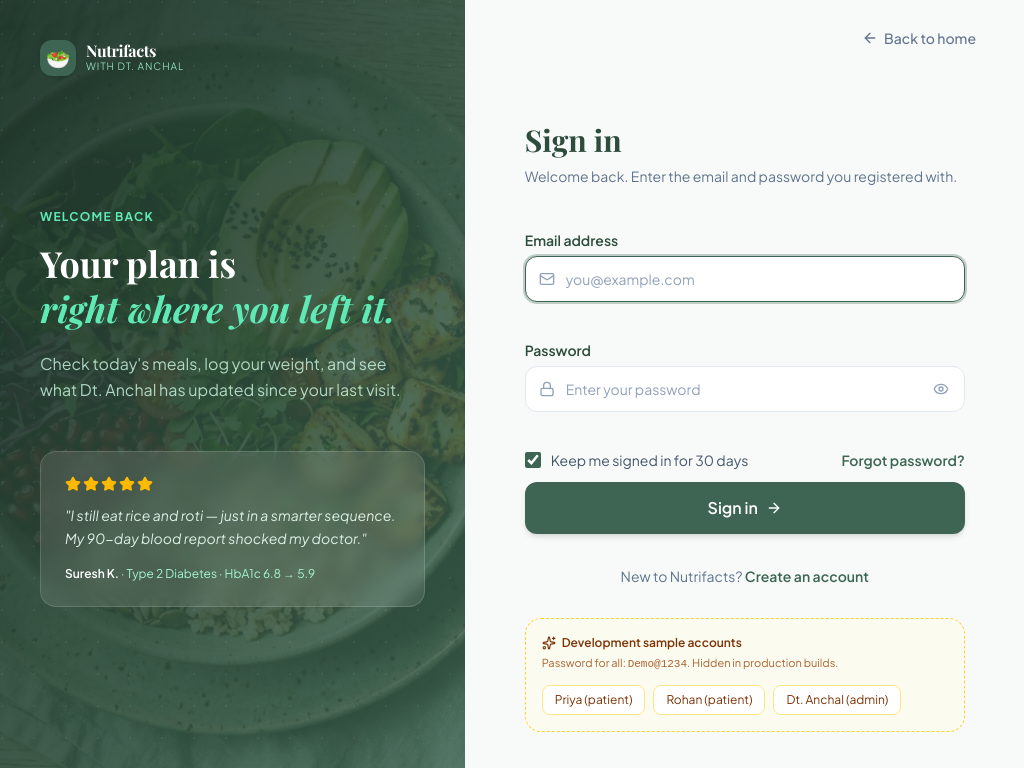
Scenario: sign-in page › shows the server error, clears the password and keeps the email
The image size is (1024, 768).
In the field labelled "Email address": (745, 279) top-left (525, 256), bottom-right (965, 302), type "priya.sharma@example.com"
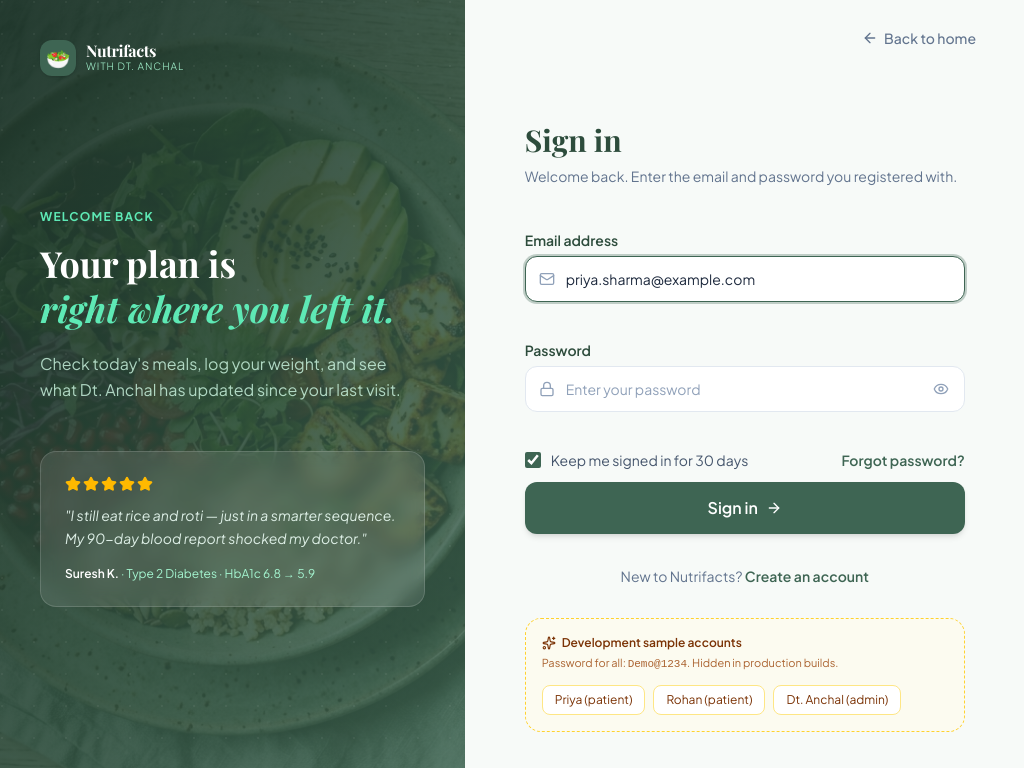
In the password field labelled "Password": (745, 389) top-left (525, 366), bottom-right (965, 412), type "wrong-pass1"
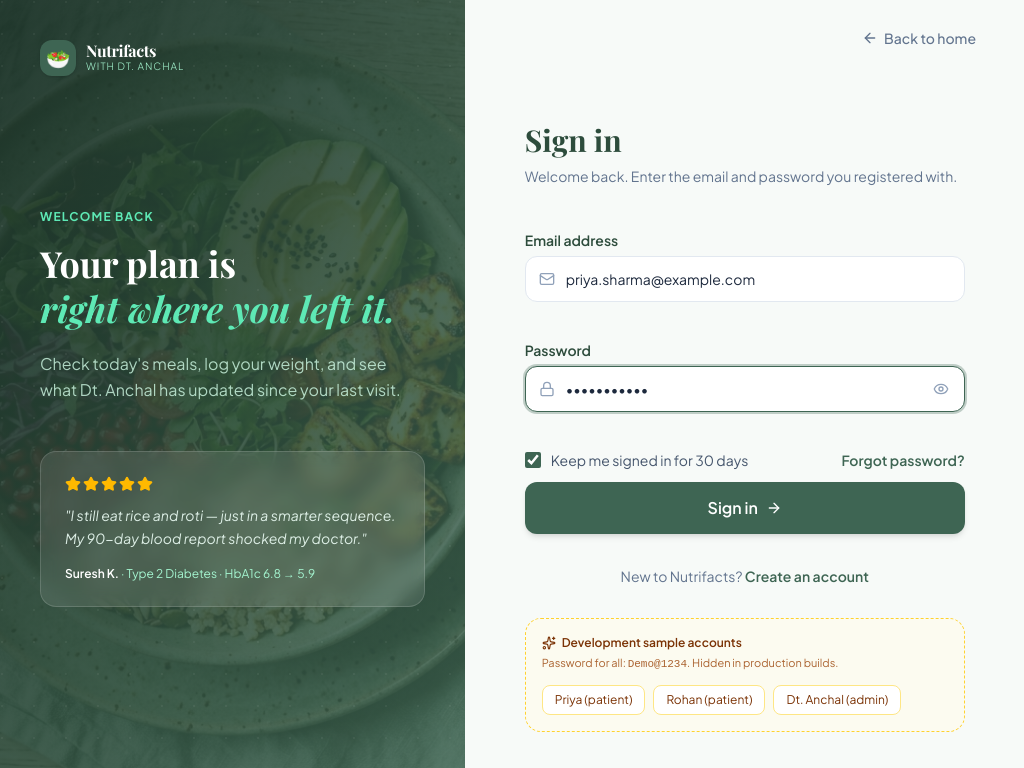
Click the button "Sign in": click(745, 508) top-left (525, 482), bottom-right (965, 534)
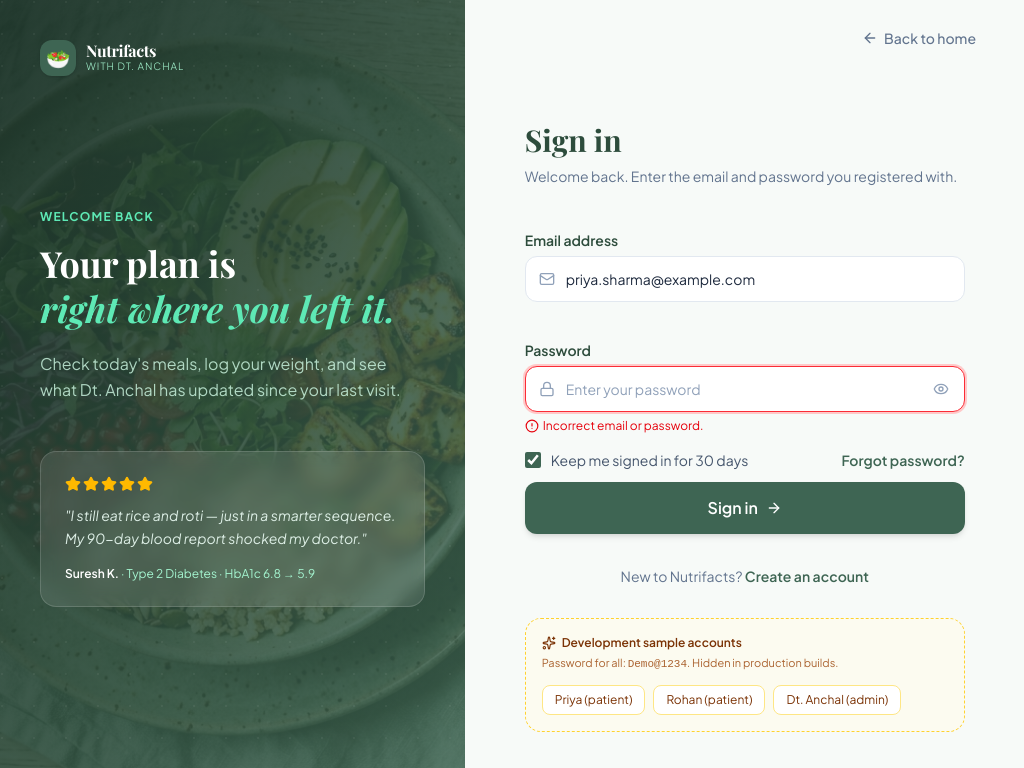
Check: the text "Incorrect email or password." is shown, box top-left (543, 418), bottom-right (704, 434)
Check: the password field labelled "Password" is empty, box top-left (525, 366), bottom-right (965, 412)
